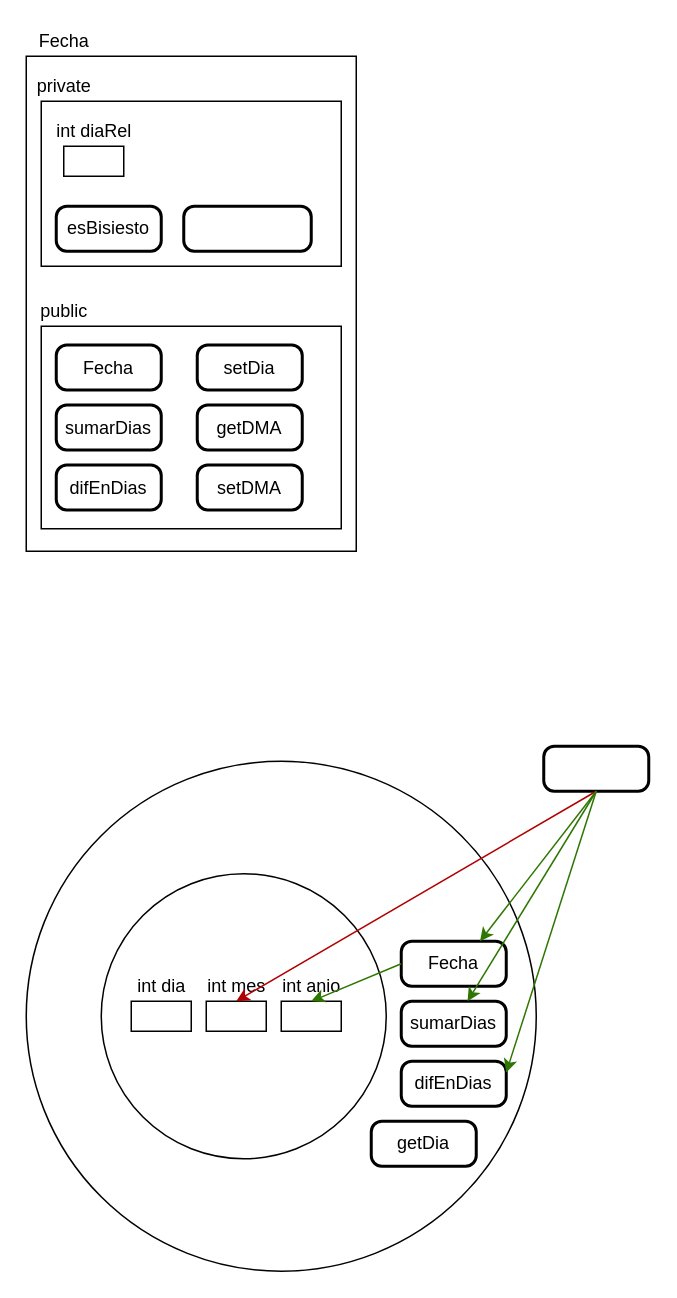
Some shapes in this 677 by 1298 pixel diagram are drawn without their labels. Each missing label, with the box of its shape:
cantDiasMes: (182, 204, 312, 252)
main: (542, 744, 650, 792)
